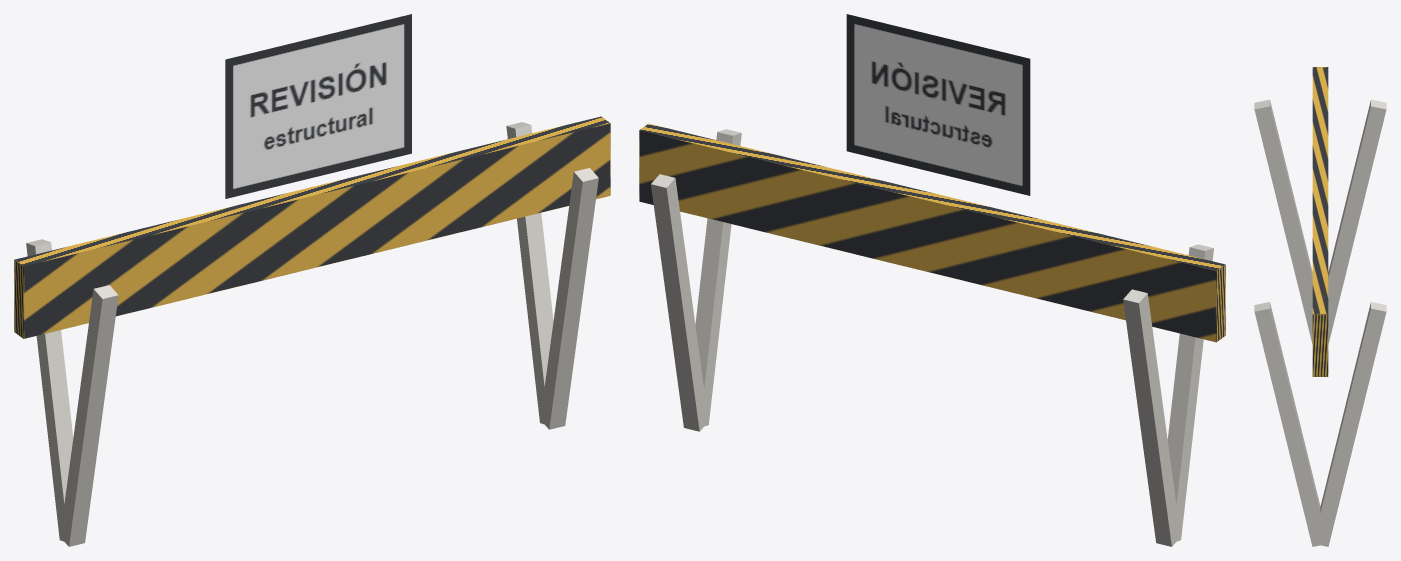
File: barrera_revision.fbx
3 renders of one model, left to right at view 1: azimuth 30°, elevation 25°; view 2: azimuth 150°, elevation 25°; view 3: azimuth 270°, elevation 25°, orthographic. The views are drawn at different scales.
Visible parts, largest first — view 1: revision_etiqueta, revision_etiqueta_02, leg_04, leg_02, leg, leg_03; view 2: revision_etiqueta, revision_etiqueta_02, leg_03, leg, leg_02, leg_04; view 3: revision_etiqueta, leg_03, leg_04, leg, leg_02.
Part boxes in pixels (x1,y1,x2,y2): revision_etiqueta: (14, 116, 610, 338); revision_etiqueta_02: (225, 14, 411, 198); leg_04: (540, 168, 598, 429); leg_02: (60, 285, 118, 546); leg: (26, 239, 73, 542); leg_03: (506, 122, 553, 425); revision_etiqueta: (639, 123, 1225, 342); revision_etiqueta_02: (846, 14, 1030, 195); leg_03: (651, 174, 708, 431); leg: (1123, 289, 1180, 546); leg_02: (1167, 244, 1213, 542); leg_04: (695, 129, 741, 426); revision_etiqueta: (1312, 67, 1328, 376); leg_03: (1313, 302, 1386, 546); leg_04: (1254, 302, 1327, 546); leg: (1328, 99, 1386, 344); leg_02: (1254, 99, 1312, 344).
Size of the model in its own units: 2.2 by 1.61 by 0.4968.
Materials: 3 (2 with a texture image).
